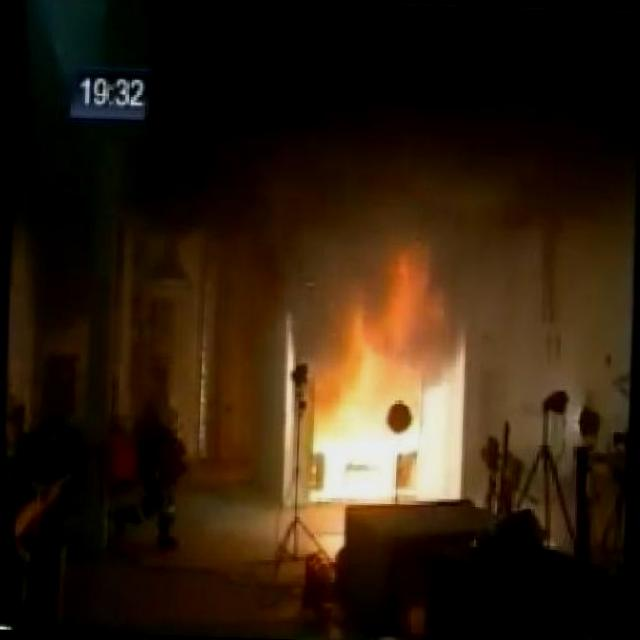fire: (280, 234, 478, 503)
